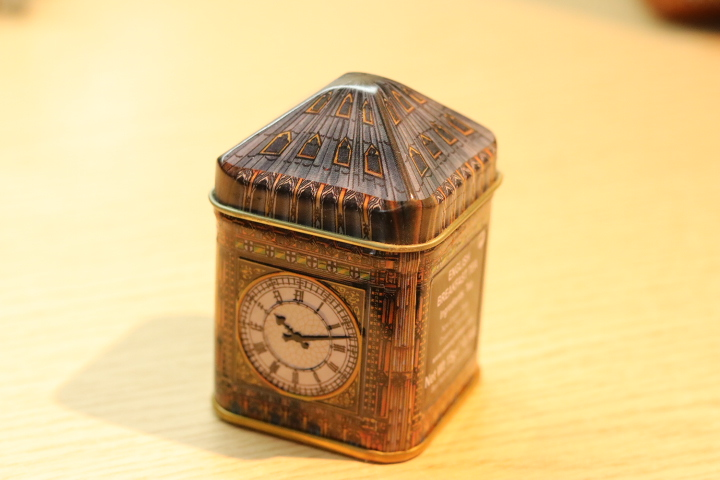Big Ben: (189, 60, 521, 475)
